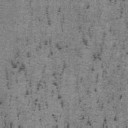oxide scale of temperature system: (0, 36, 71, 128), (78, 0, 128, 128), (46, 4, 62, 26), (86, 4, 91, 10)
